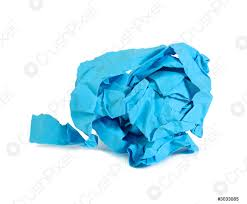crumpled paper: (29, 39, 216, 169)
